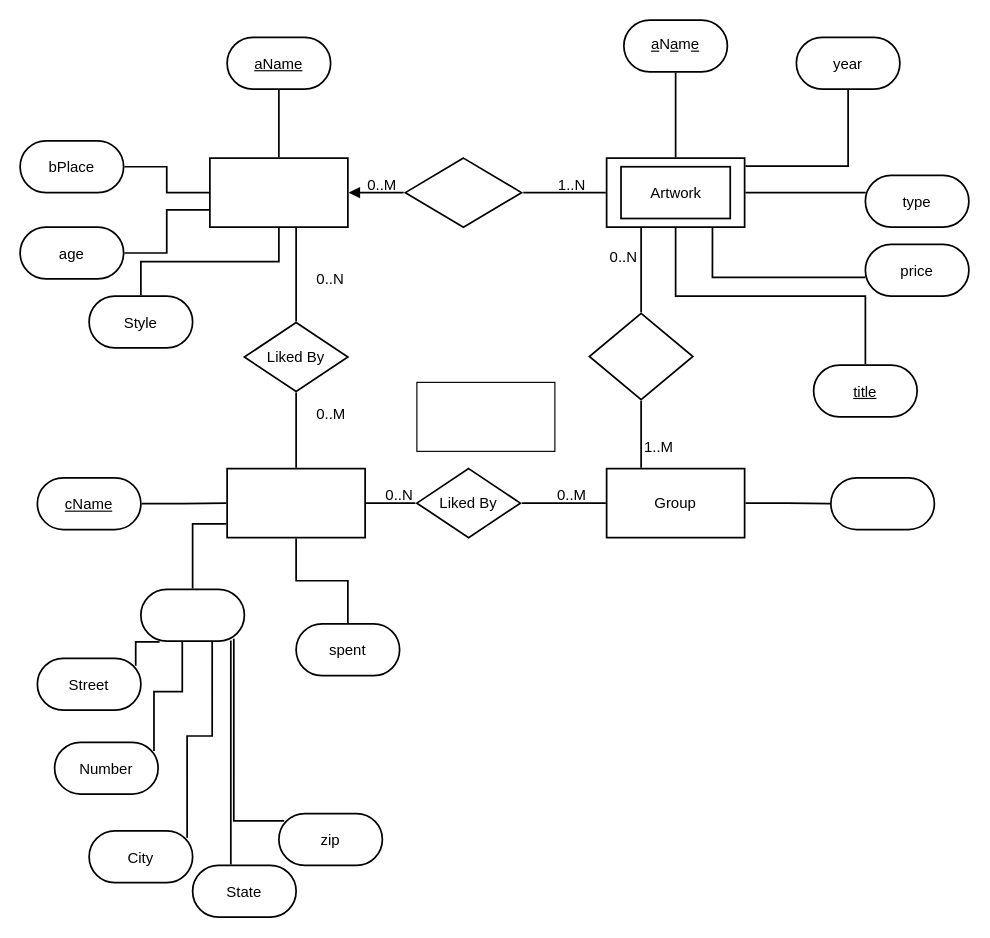
Some shapes in this 990 by 938 pixel diagram are drawn without their labels. Here are the shapes that lost their labels. From the top down, the centre of each, then its label:
pixel 278 192: Artist
pixel 463 192: Painted by
pixel 640 356: Apart of
pixel 295 502: Customer
pixel 882 503: gName
pixel 192 614: addrfess
